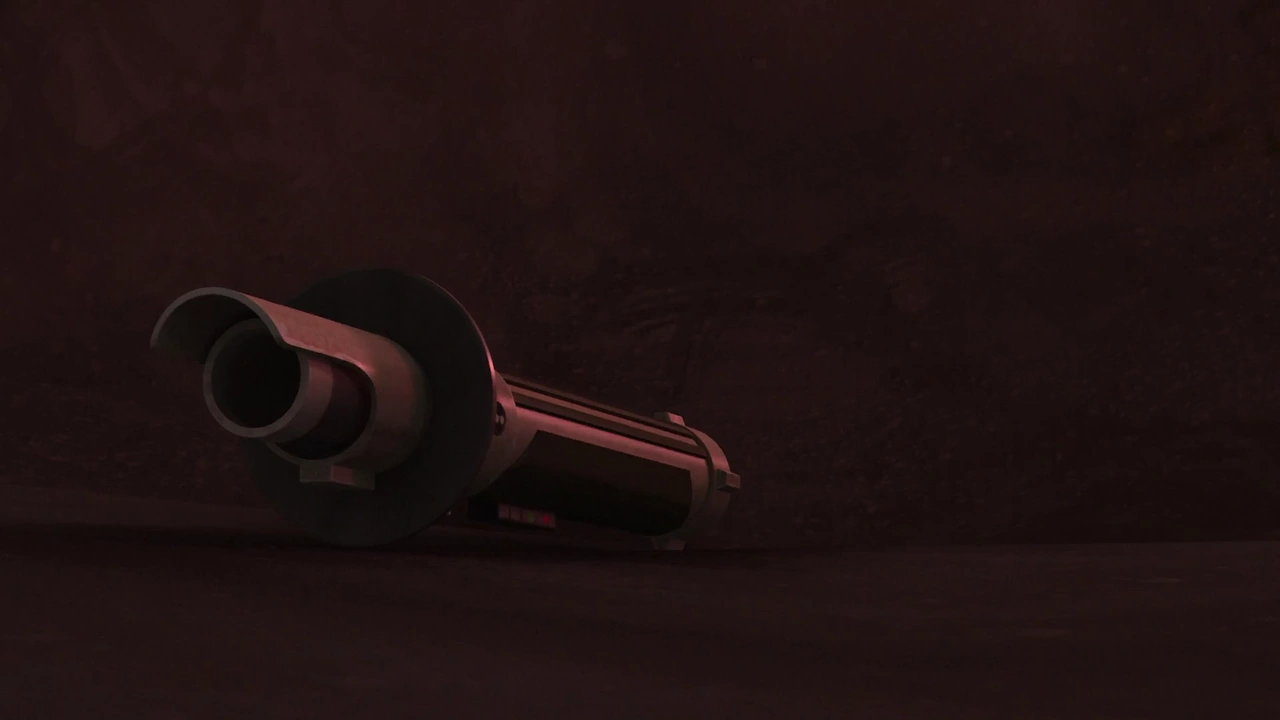Dalek: (124, 253, 747, 569)
